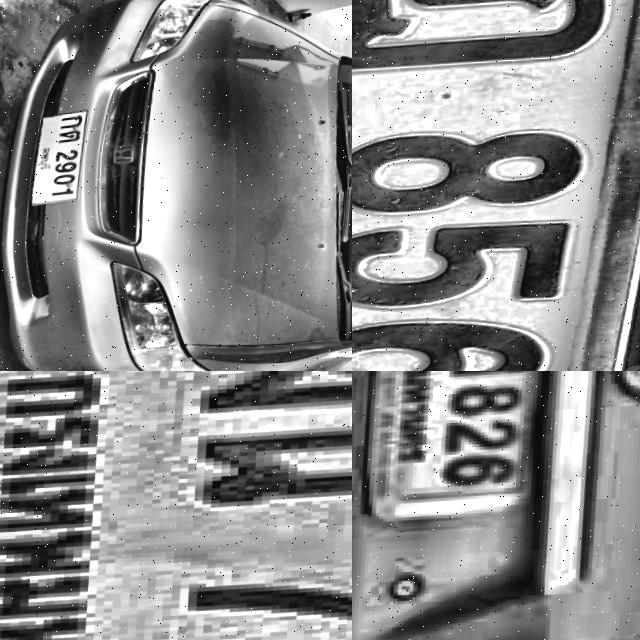license-plate: (352, 0, 640, 371), (0, 371, 352, 640), (354, 371, 592, 534), (33, 109, 98, 209)
